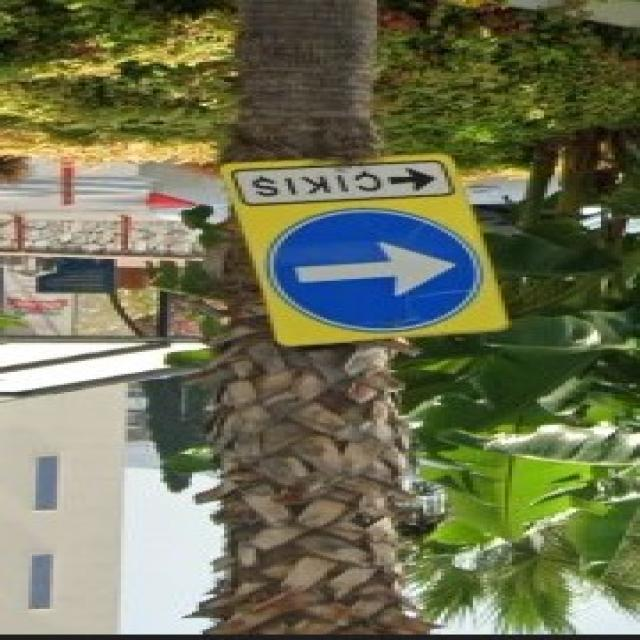Turn Right: (273, 211, 479, 338)
